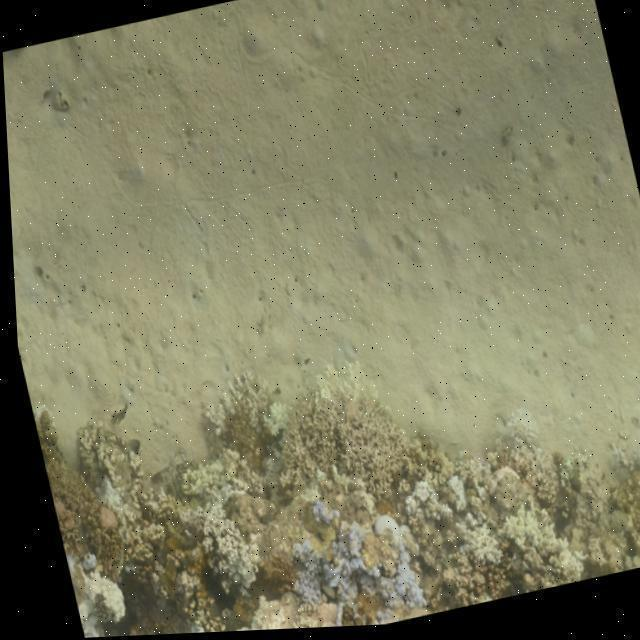Bleached Coral: (273, 506, 372, 612), (354, 547, 425, 629)
